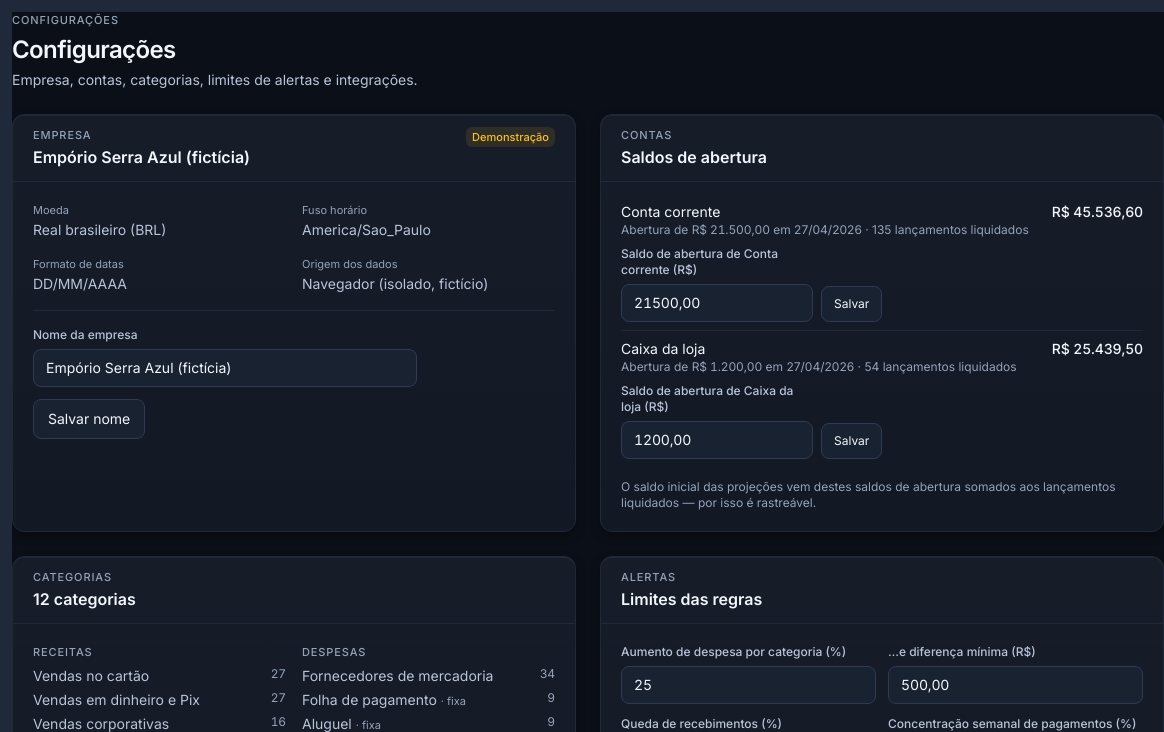
it: configurações da empresa › mostra erro para nome curto
Replace the text in the field labelled "Nome da empresa" with "a" at (225, 368), box [33,349,417,387]
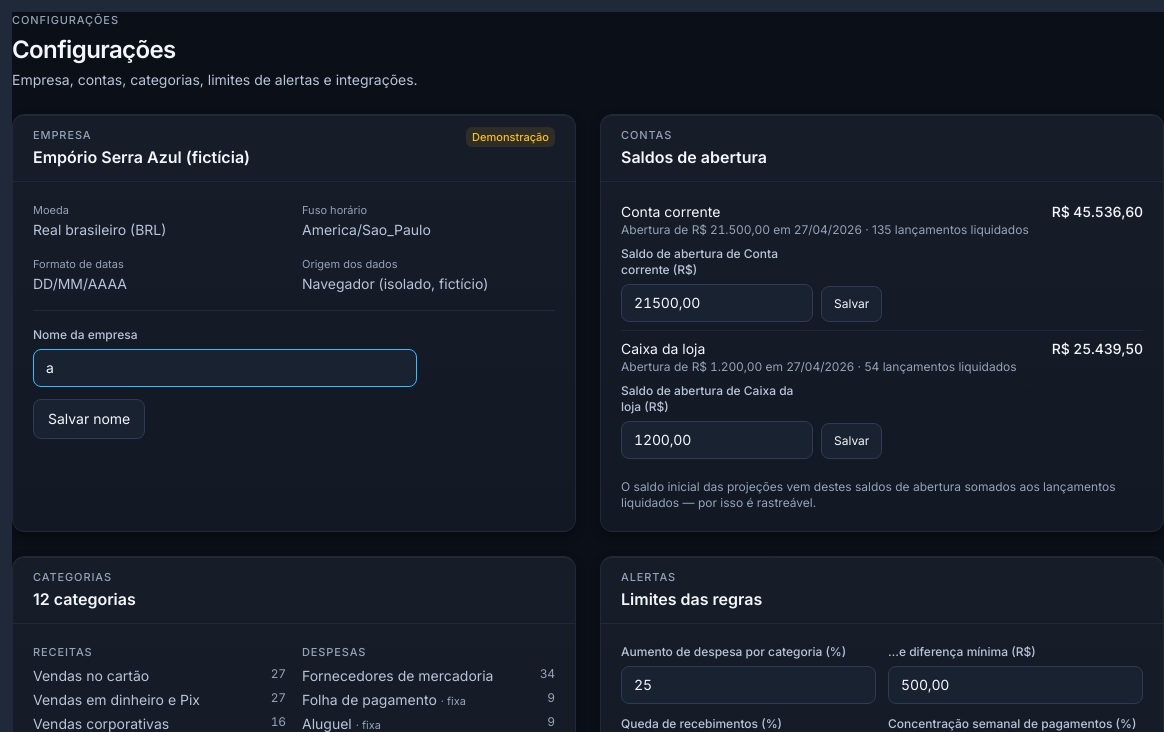
Click the button "Salvar nome" at (89, 419), box [33,399,145,439]
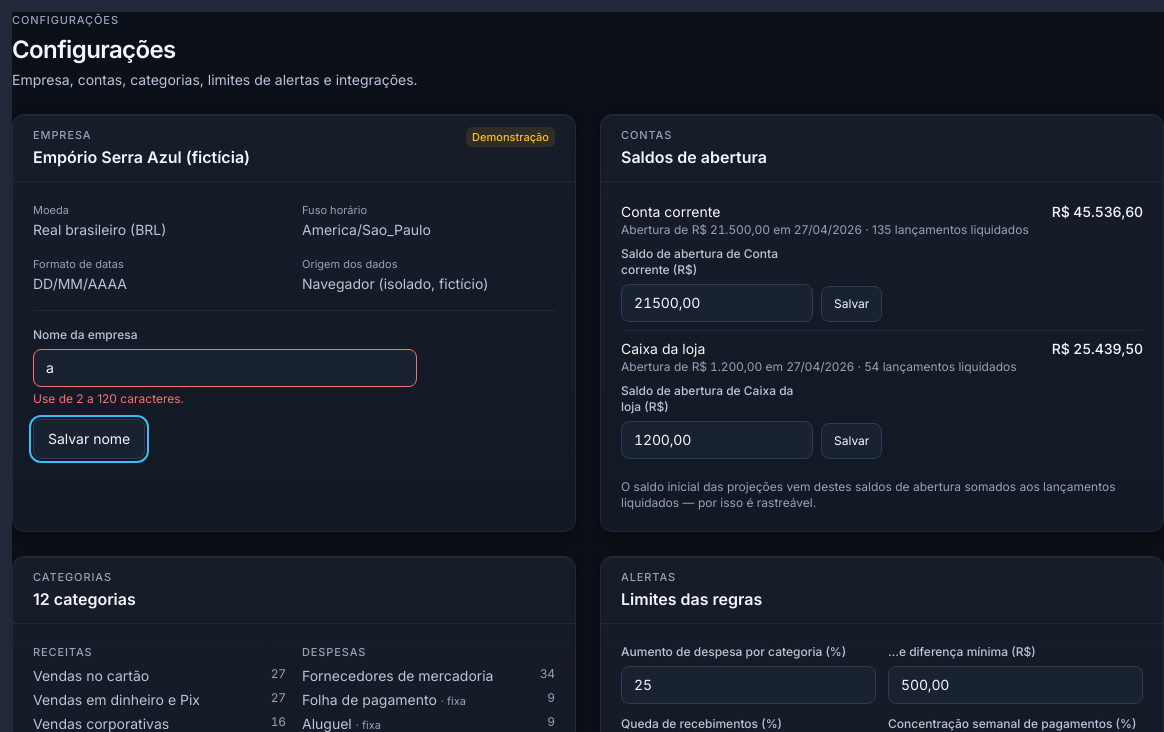
Now the text "Use de 2 a 120 caracteres." is shown, box [33,391,184,406]
